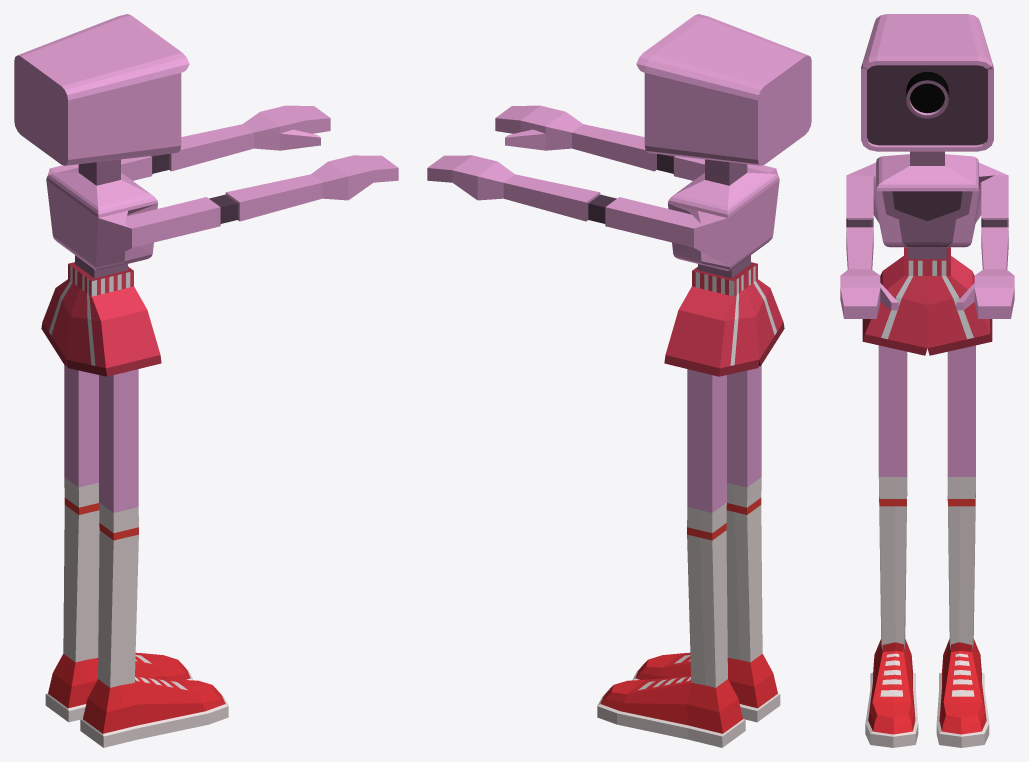
The model's file is Robot.fbx.
3 views of the same model, side by side, from view 1: azimuth 30°, elevation 25°; view 2: azimuth 150°, elevation 25°; view 3: azimuth 270°, elevation 25° (orthographic).
Parts seen in each view (by area): view 1: Torso, OikeaSääri, VasenSääri, Shorts, OikeaReisi, VasenReisi; view 2: Torso, VasenSääri, OikeaSääri, Shorts, VasenReisi, OikeaReisi; view 3: Torso, VasenSääri, OikeaSääri, Shorts, OikeaReisi, VasenReisi.
Boxes of the visible parts, x1,y1,x2,y2 form: Torso: (14, 14, 398, 278); OikeaSääri: (80, 502, 228, 747); VasenSääri: (45, 477, 193, 722); Shorts: (41, 262, 161, 376); OikeaReisi: (99, 369, 138, 512); VasenReisi: (64, 365, 98, 487); Torso: (427, 14, 811, 278); VasenSääri: (597, 502, 745, 747); OikeaSääri: (632, 477, 780, 722); Shorts: (664, 262, 784, 376); VasenReisi: (687, 369, 726, 512); OikeaReisi: (727, 365, 761, 487); Torso: (840, 14, 1014, 318); VasenSääri: (936, 477, 989, 747); OikeaSääri: (865, 477, 918, 747); Shorts: (862, 247, 992, 355); OikeaReisi: (878, 345, 907, 478); VasenReisi: (947, 345, 975, 476).
Bounding box in the file's own units: 684 × 1394 × 332.
